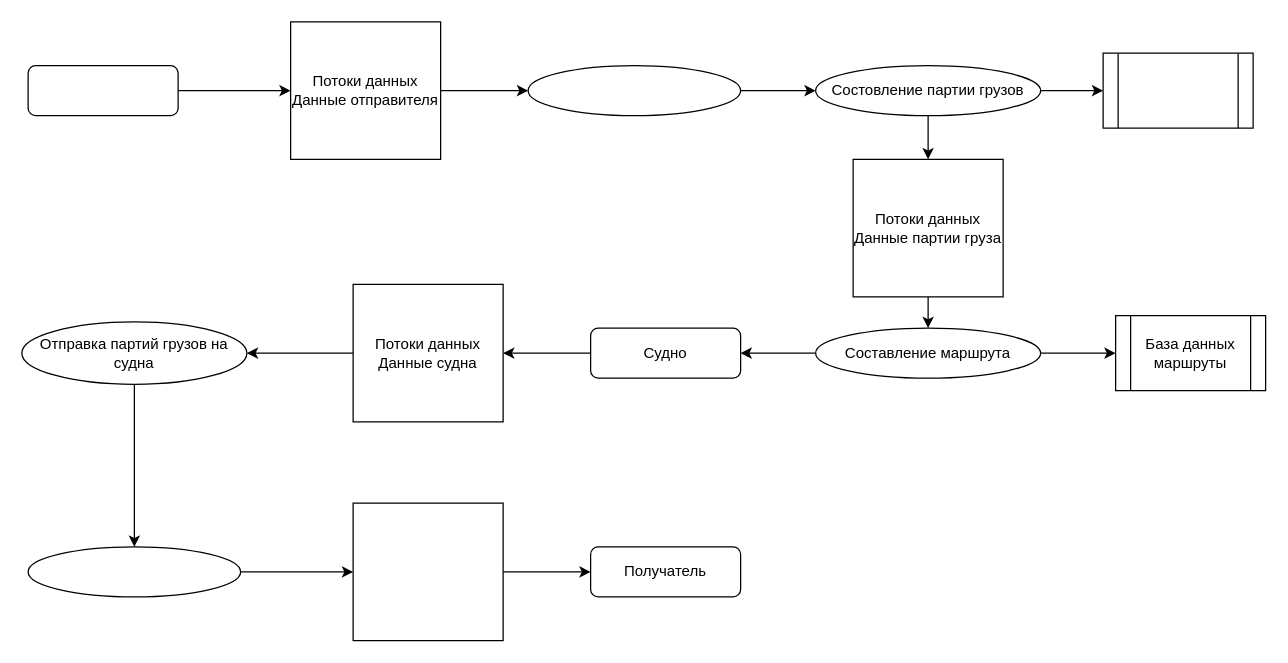
This 1288x663 diagram has some shape labels left out. The shapes that lost their labels are listed below. From the top down, each one's centre as x and y in pixels, then its label:
At (102,90): "Отправитель".
At (634,90): "Обработка заявки".
At (1177,90): "База данных грузы".
At (134,571): "Доставка партии груза".
At (427,571): "Потоки данных Данные получателя".
